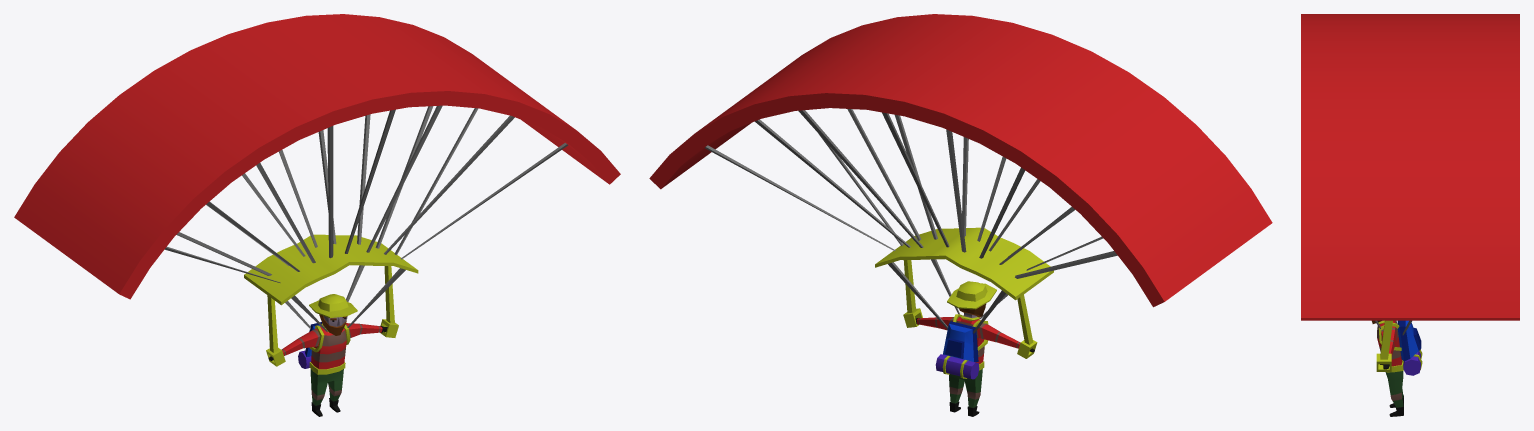
File: Paracaidista.fbx
3 renders of one model, left to right at view 1: azimuth 30°, elevation 25°; view 2: azimuth 150°, elevation 25°; view 3: azimuth 270°, elevation 25°, orthographic. The views are drawn at different scales.
Visible parts, largest first — view 1: Cube, Cube (2), campist; view 2: Cube, Cube (2), campist; view 3: Cube, campist, Cube (2).
Boxes of the visible parts, x1,y1,x2,y2 form: Cube: [14, 14, 620, 299]; Cube (2): [164, 105, 568, 366]; campist: [268, 294, 387, 416]; Cube: [649, 14, 1272, 307]; Cube (2): [705, 109, 1117, 358]; campist: [915, 281, 1034, 416]; Cube: [1301, 14, 1519, 320]; campist: [1372, 320, 1422, 416]; Cube (2): [1375, 320, 1411, 371].
Bounding box in the file's own units: 777 × 513 × 282.
